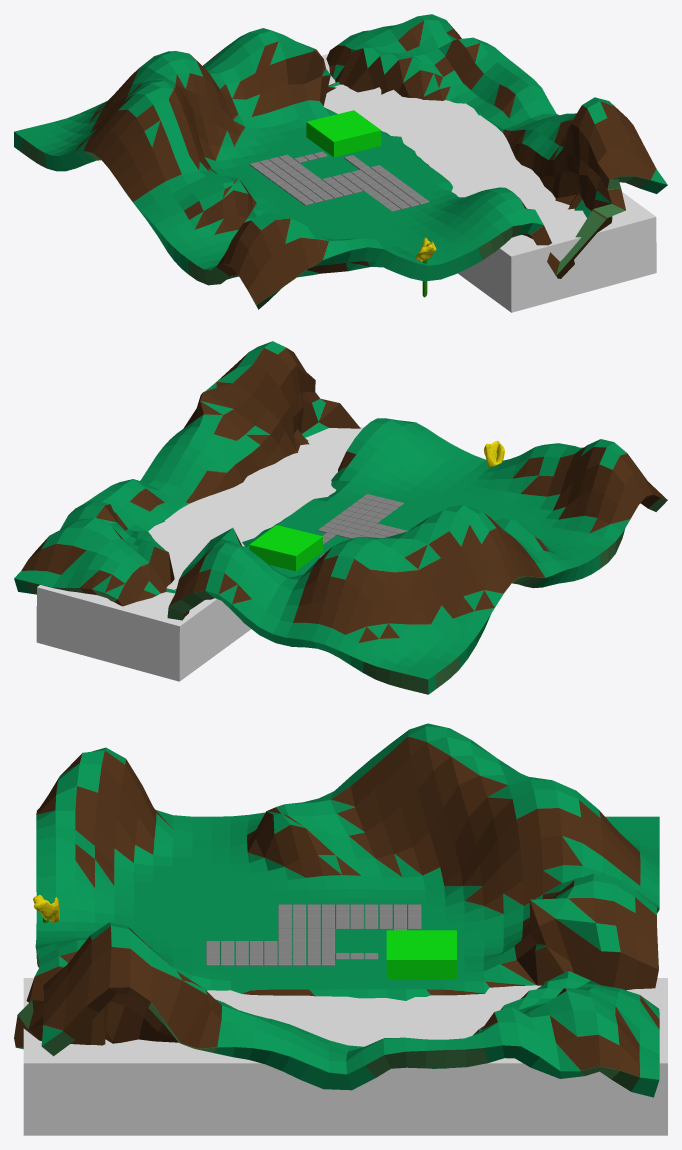
File: Dumbass.fbx
The picture shows the model from 3 angles, top to bottom: view 1: azimuth 30°, elevation 25°; view 2: azimuth 150°, elevation 25°; view 3: azimuth 270°, elevation 25°; orthographic projection. The views are drawn at different scales.
Parts seen in each view (by area): view 1: Plane, Water, tiles, tree; view 2: Plane, Water, tiles, tree; view 3: Plane, Water, tiles, tree.
Boxes of the visible parts, x1,y1,x2,y2 form: Plane: (14,14,667,309); Water: (321,54,656,312); tiles: (249,151,429,211); tree: (306,110,381,157); Plane: (14,341,667,694); Water: (36,427,363,681); tiles: (317,494,407,558); tree: (249,525,322,571); Plane: (14,723,659,1097); Water: (23,978,667,1135); tiles: (206,904,421,966); tree: (386,930,456,979).
Bounding box in the file's own units: 12728 × 4512 × 13218.
